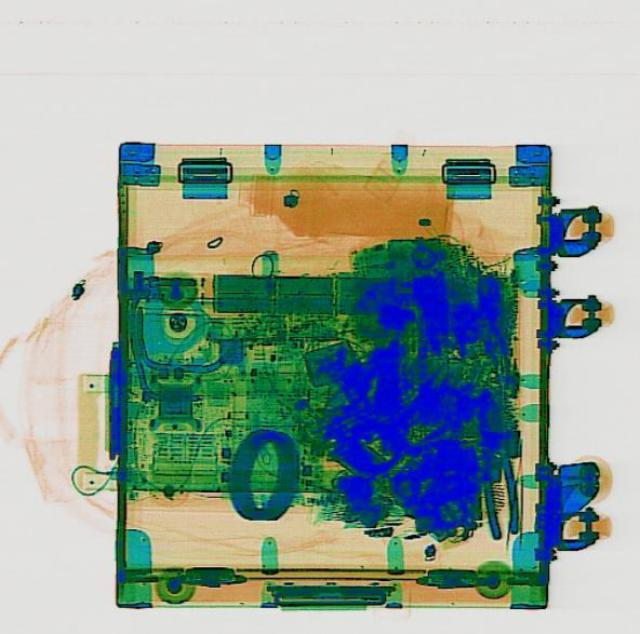Pliers: (470, 396, 522, 537)
